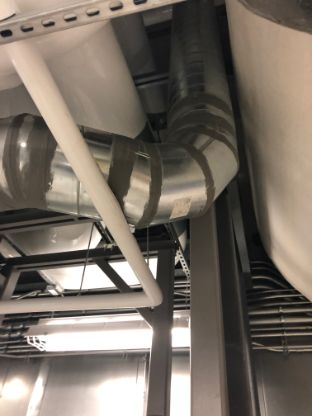Duct: (1, 98, 191, 230), (164, 1, 240, 235)
